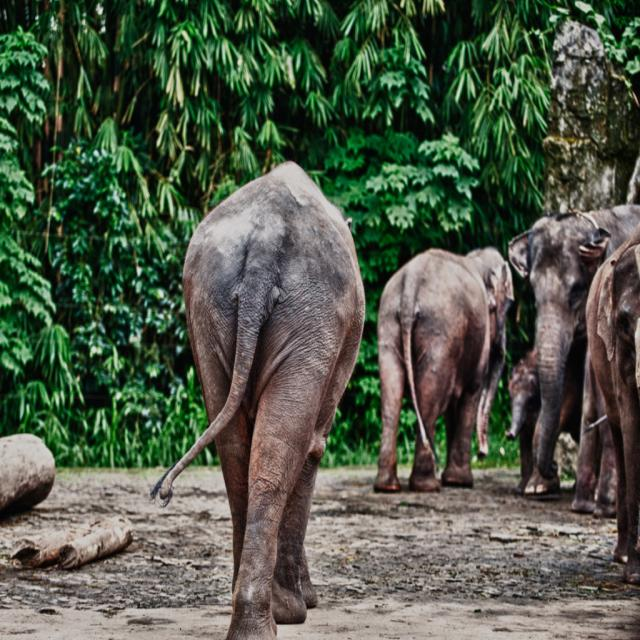Elephant: (149, 160, 366, 640), (507, 203, 639, 514), (374, 245, 514, 493), (584, 223, 639, 584)
